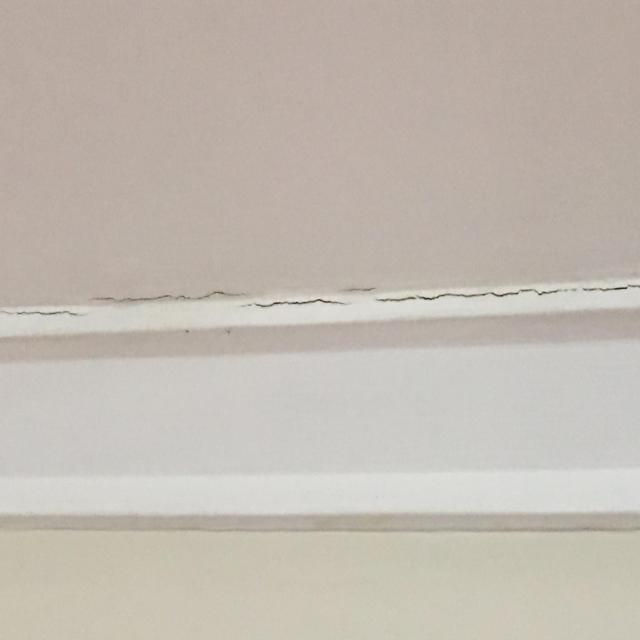crack: (371, 281, 640, 305), (86, 287, 248, 308), (237, 294, 357, 311), (0, 305, 97, 320)
